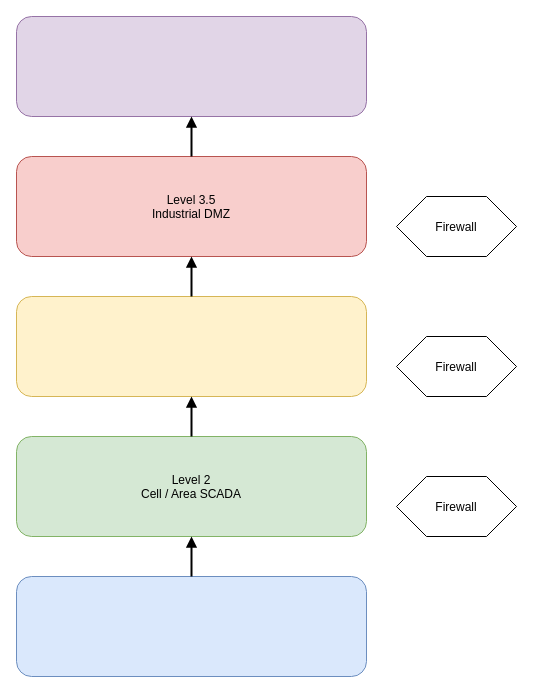
Image size: 533x693. Some labels were removed from this diagram. Each missing label, with the centre of its shape:
Level 0/1 Machines & PLCs: point 191,626
Level 3 Site Operations: point 191,346
Level 4 Enterprise IT: point 191,66
